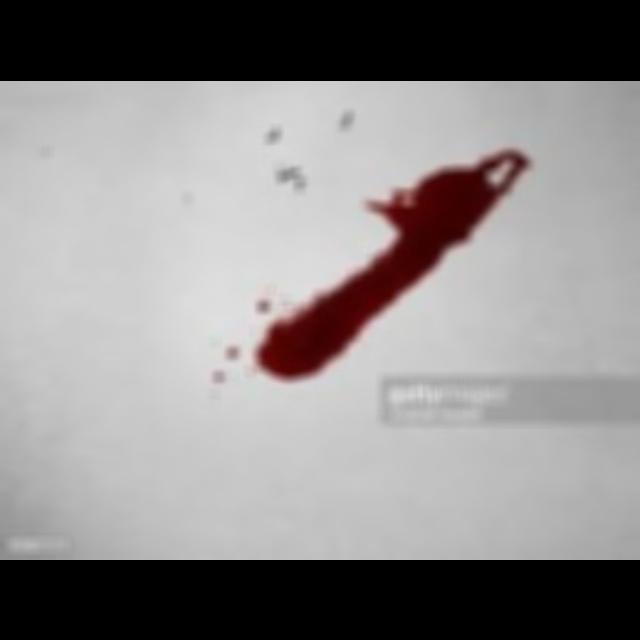blood: (252, 149, 531, 379)
